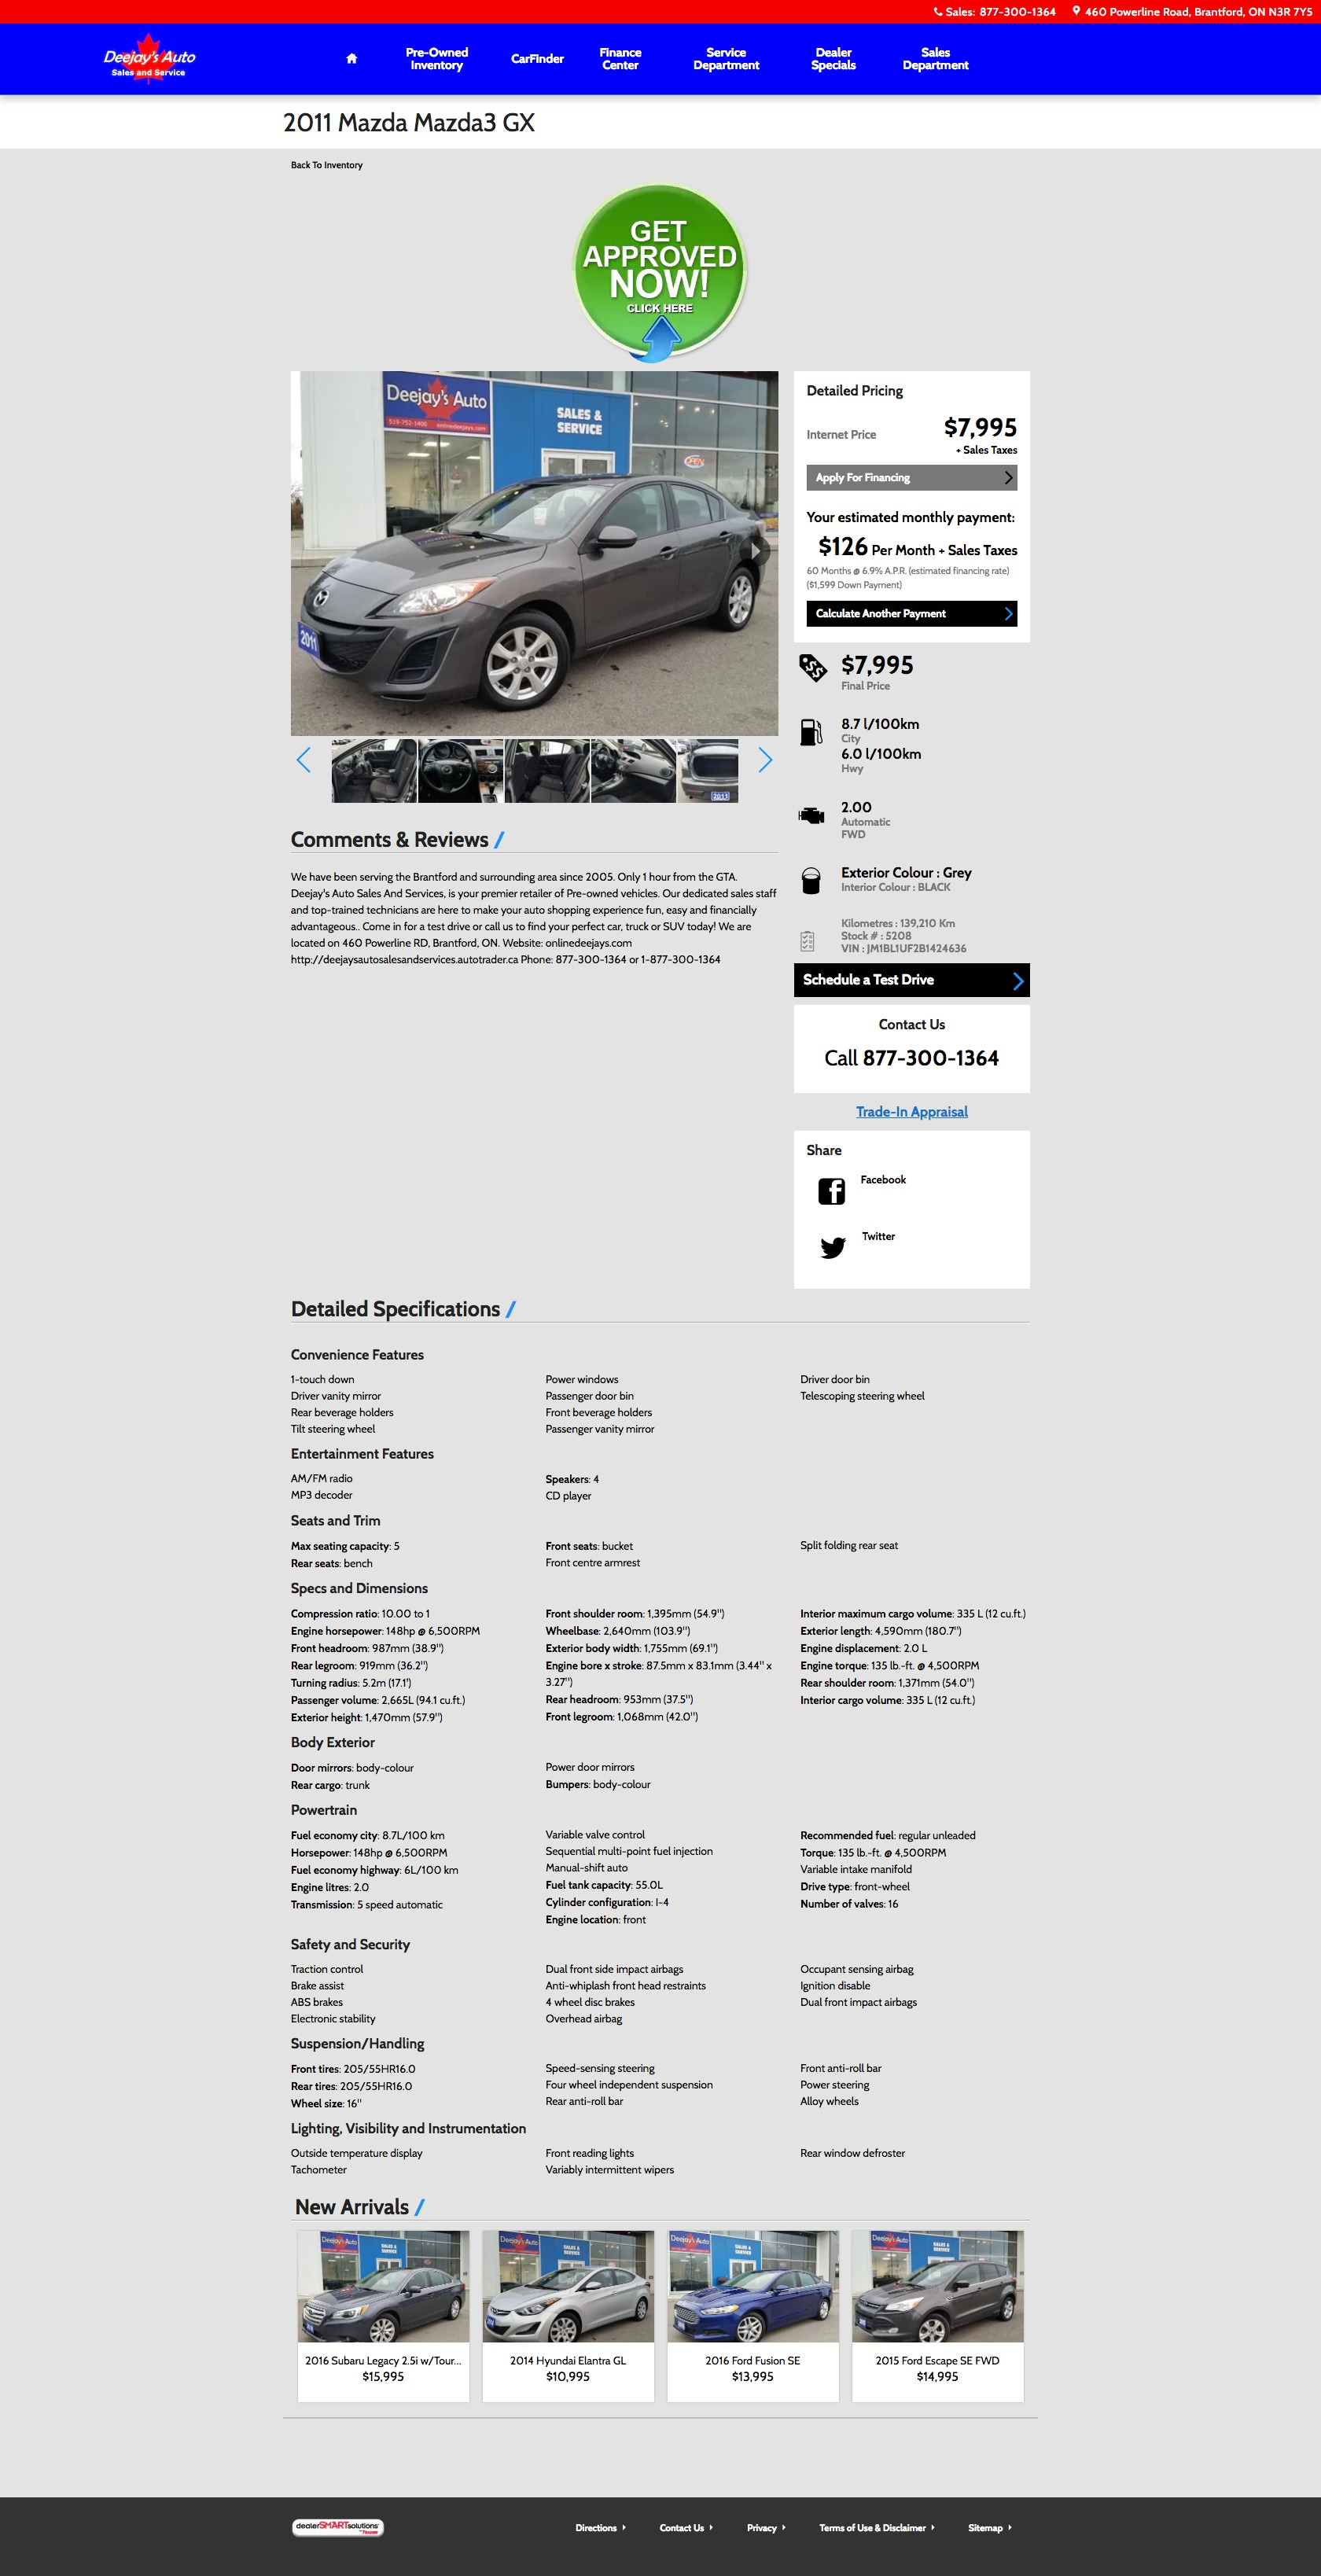car: (758, 746, 773, 773)
